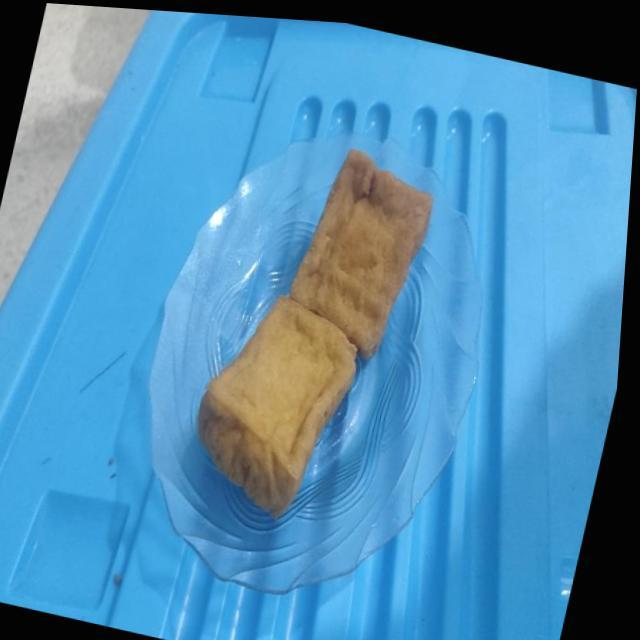tahu_goreng: (198, 296, 356, 518), (289, 147, 433, 360)
